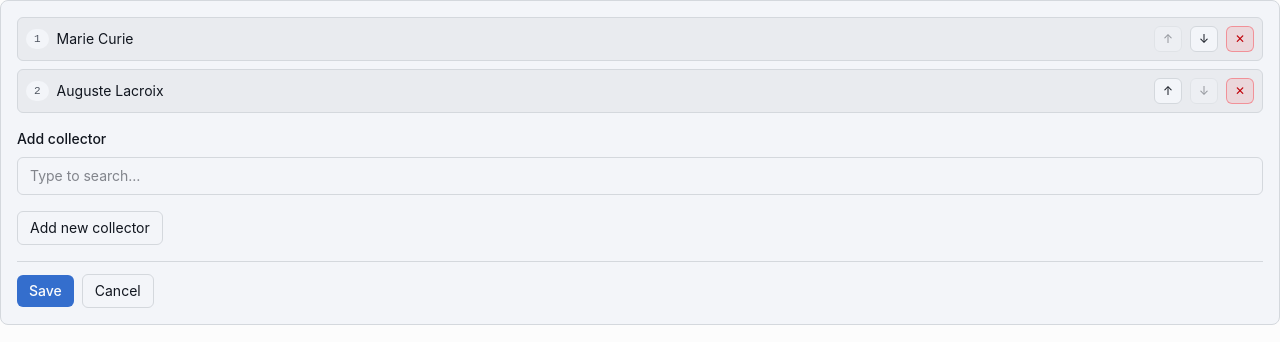
Test: CollectorChainEditor › removes a collector from the chain locally
This screenshot has width=1280, height=342.
Click the button with test id "remove-row" in the row of "Marie Curie".
click(1240, 39)  # box [1226,26,1254,52]
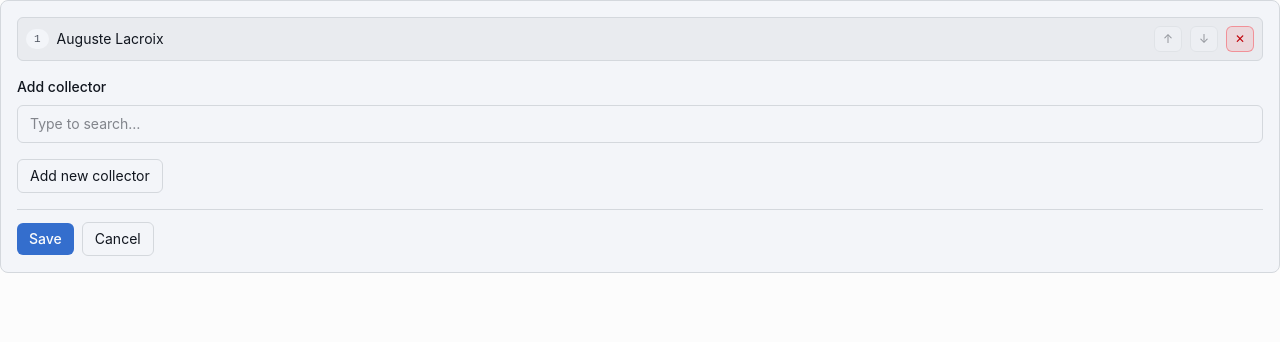
Expected: the list item with test id "chain-row" shows "Auguste Lacroix", [57,30,164,47]
Expected: the number of list items with test id "chain-row" is 1, [17,17,1263,61]
